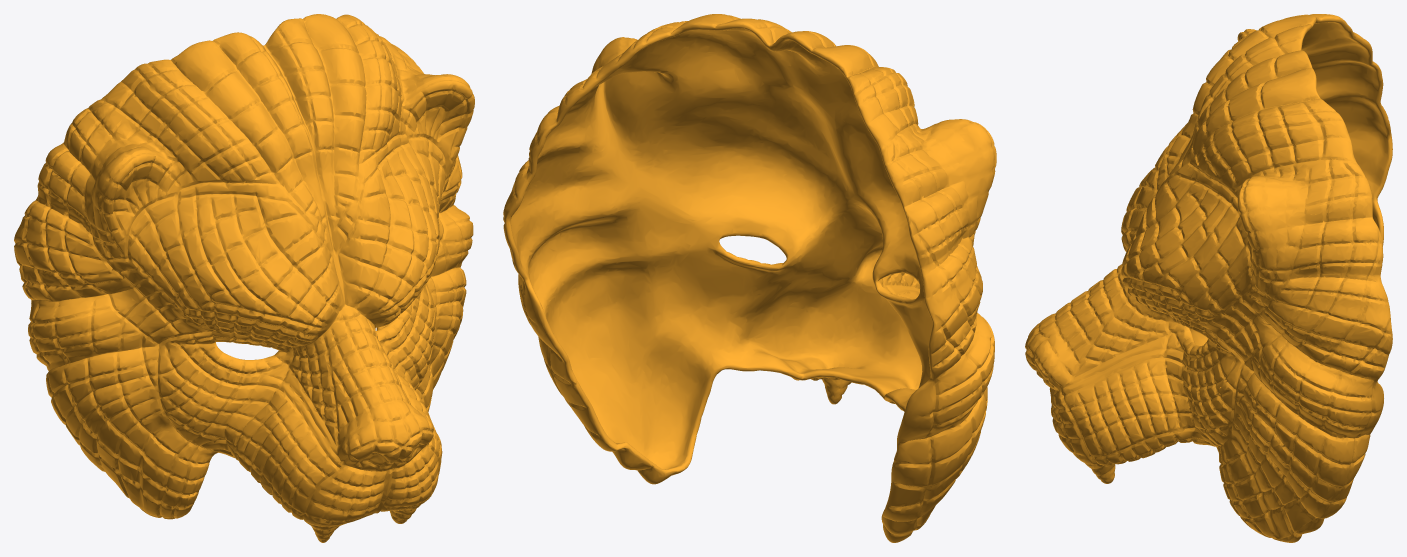
Rendered from VipLionMask.glb.
The picture shows the model from 3 angles, left to right: view 1: azimuth 30°, elevation 25°; view 2: azimuth 150°, elevation 25°; view 3: azimuth 270°, elevation 25°; orthographic projection. The views are drawn at different scales.
Parts seen in each view (by area): view 1: VipLionMask; view 2: VipLionMask; view 3: VipLionMask.
Boxes of the visible parts, left/top/right/bottom form: VipLionMask: left=14, top=14, right=474, bottom=542; VipLionMask: left=503, top=14, right=996, bottom=542; VipLionMask: left=1025, top=14, right=1392, bottom=542.
Size of the model in its own units: 248 by 251 by 186.
